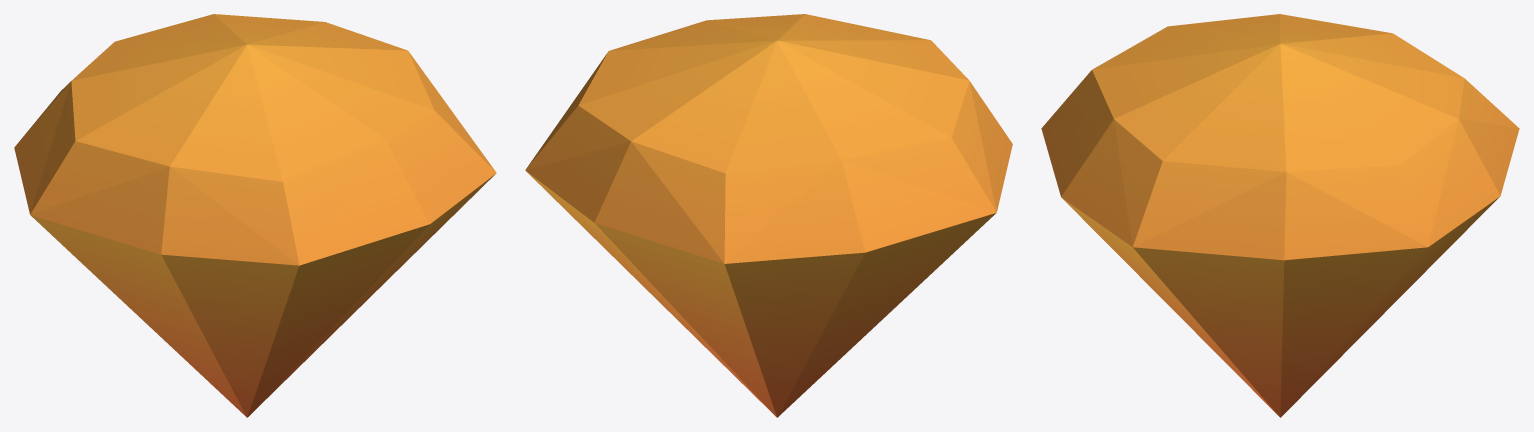
The model's file is YellowGem.glb.
3 views of the same model, side by side, from view 1: azimuth 30°, elevation 25°; view 2: azimuth 150°, elevation 25°; view 3: azimuth 270°, elevation 25° (orthographic).
Visible parts, largest first — view 1: GemRed; view 2: GemRed; view 3: GemRed.
Part boxes in pixels (x1,y1,x2,y2): GemRed: (14,14,496,417); GemRed: (525,14,1012,417); GemRed: (1041,14,1519,417).
Size of the model in its own units: 1.04 by 0.8836 by 1.02.
Materials: 1 (1 with a texture image).
